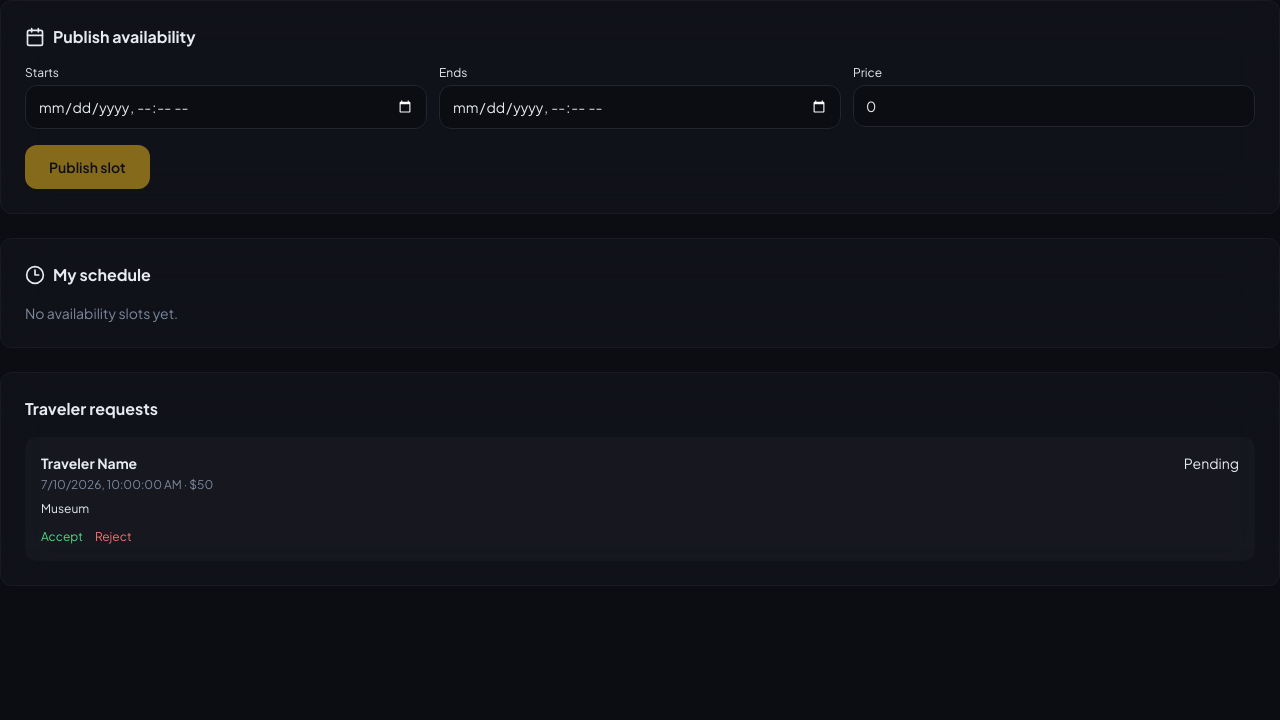
Test: MyBuddyScheduleTab › handles the Accept action and updates status
What coordinates should you click on to do the following:
click the button "Accept"
I would click on:
 (62, 537)
Its box is [41, 529, 83, 545].
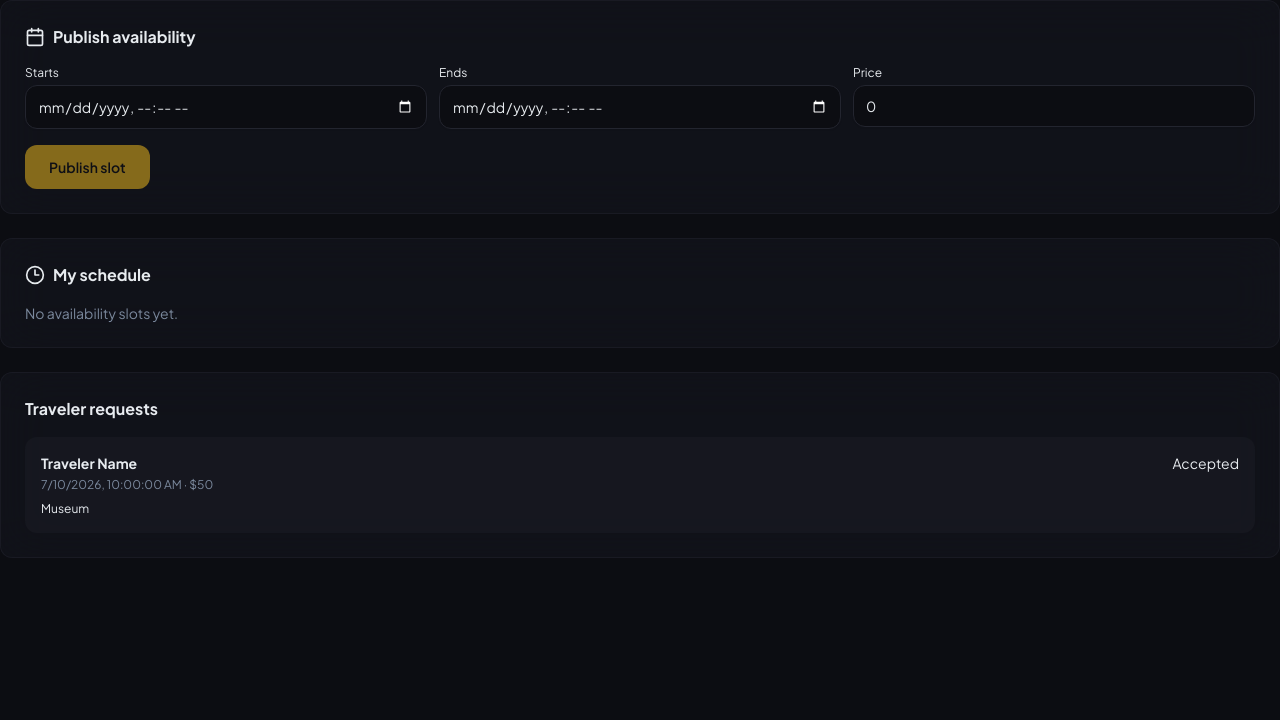
Expected: the text "Accepted" is shown, [1172, 453, 1239, 473]
